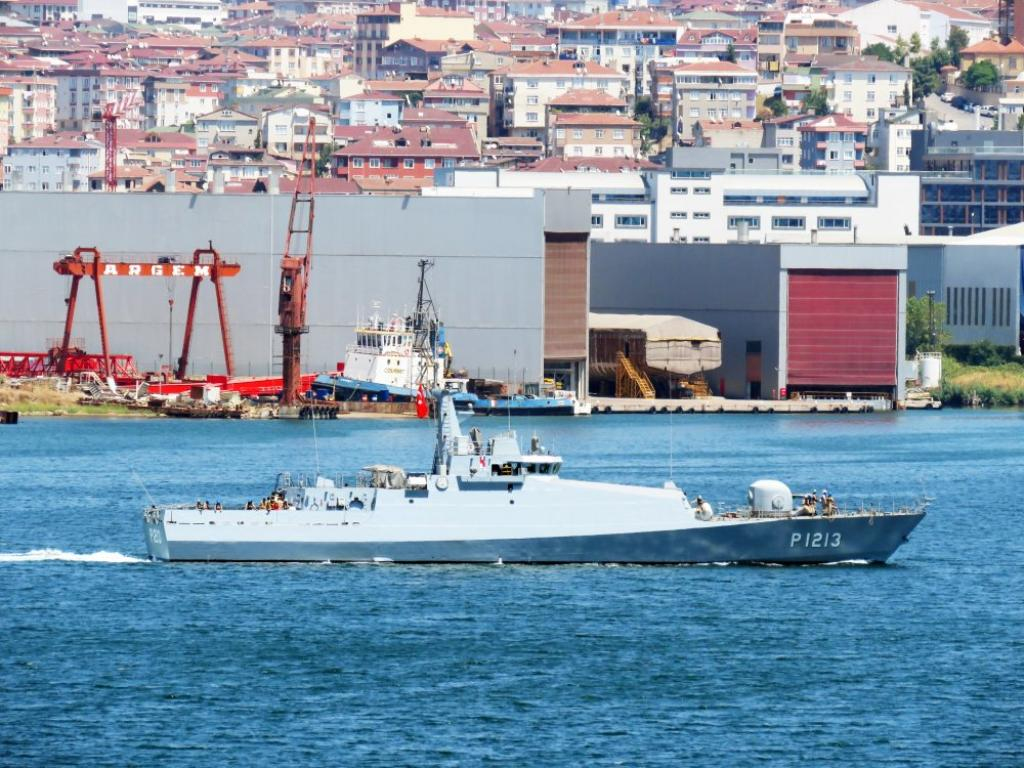Warship: (132, 376, 932, 582)
